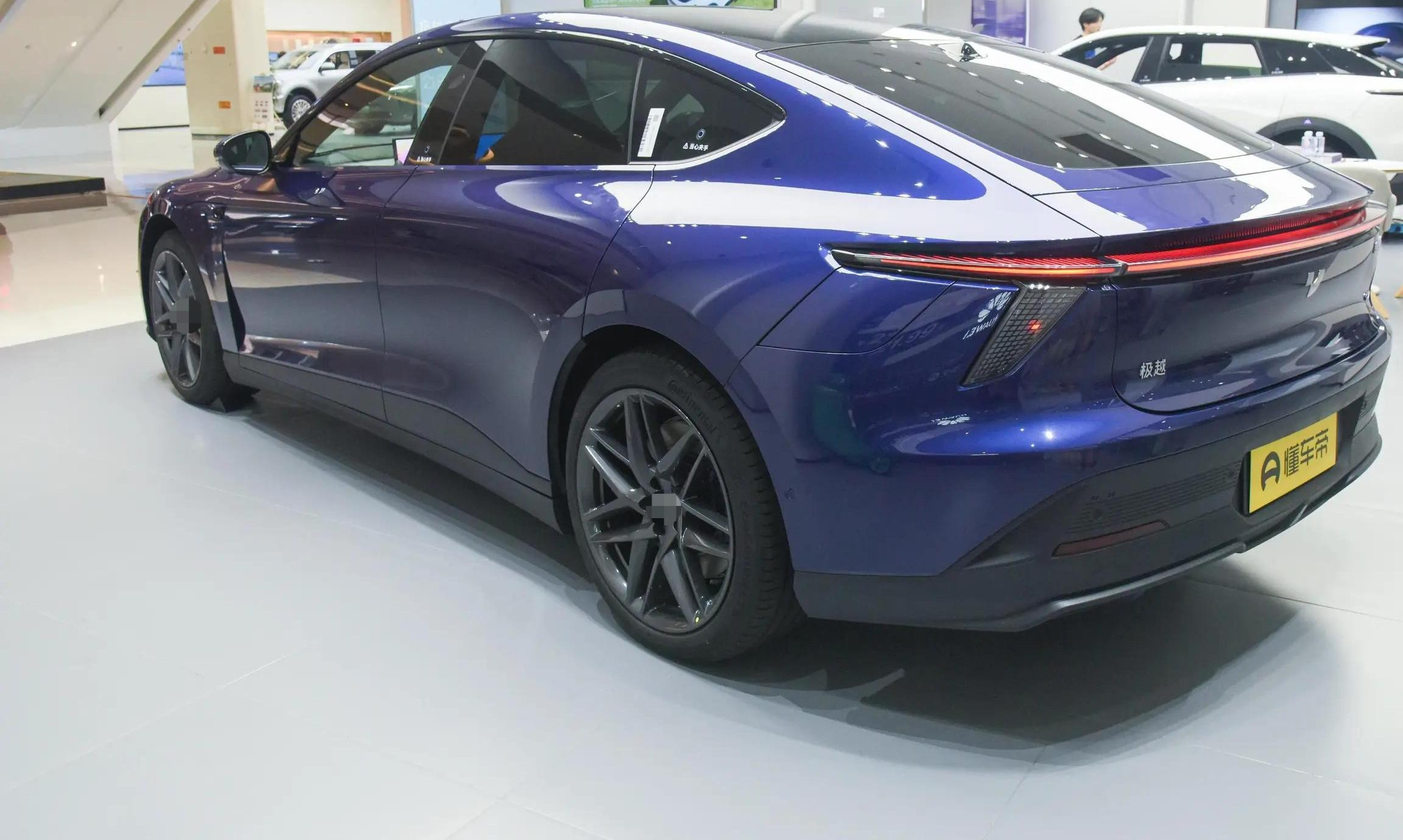JIYUE: (1306, 267, 1326, 297)
